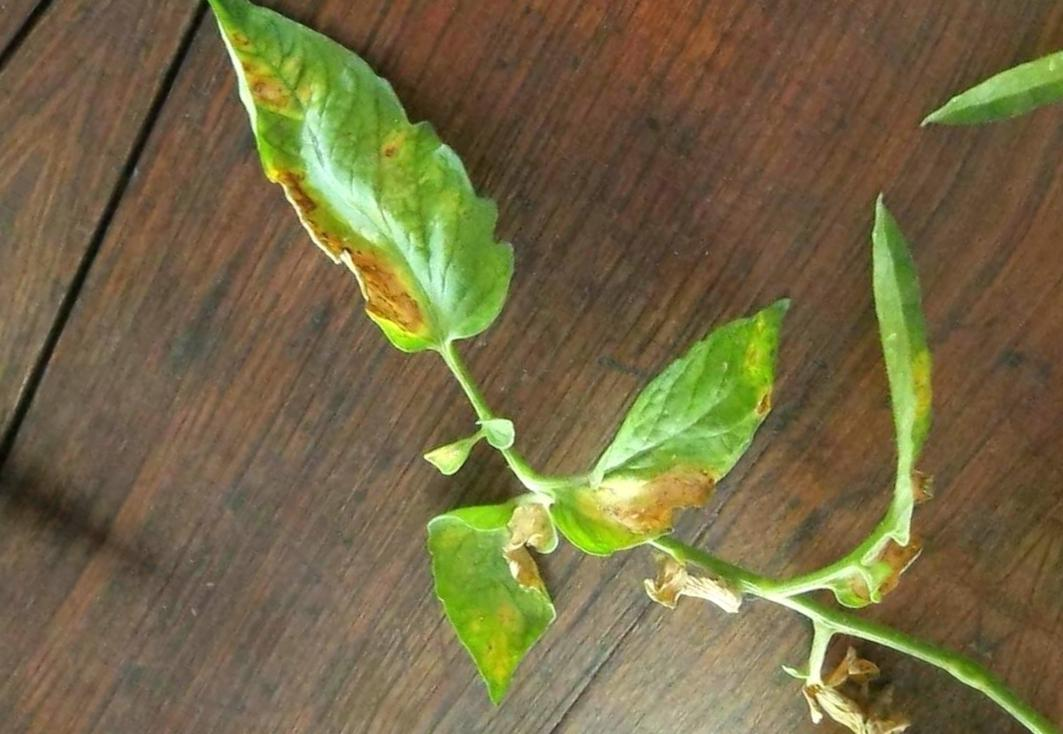Tomato Early blight leaf: (85, 0, 590, 383), (524, 231, 836, 611)
